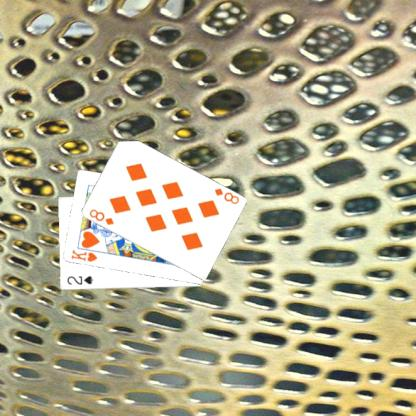2S: (64, 274, 94, 286)
8D: (86, 206, 115, 227), (211, 186, 240, 206)
KH: (69, 247, 98, 263)
